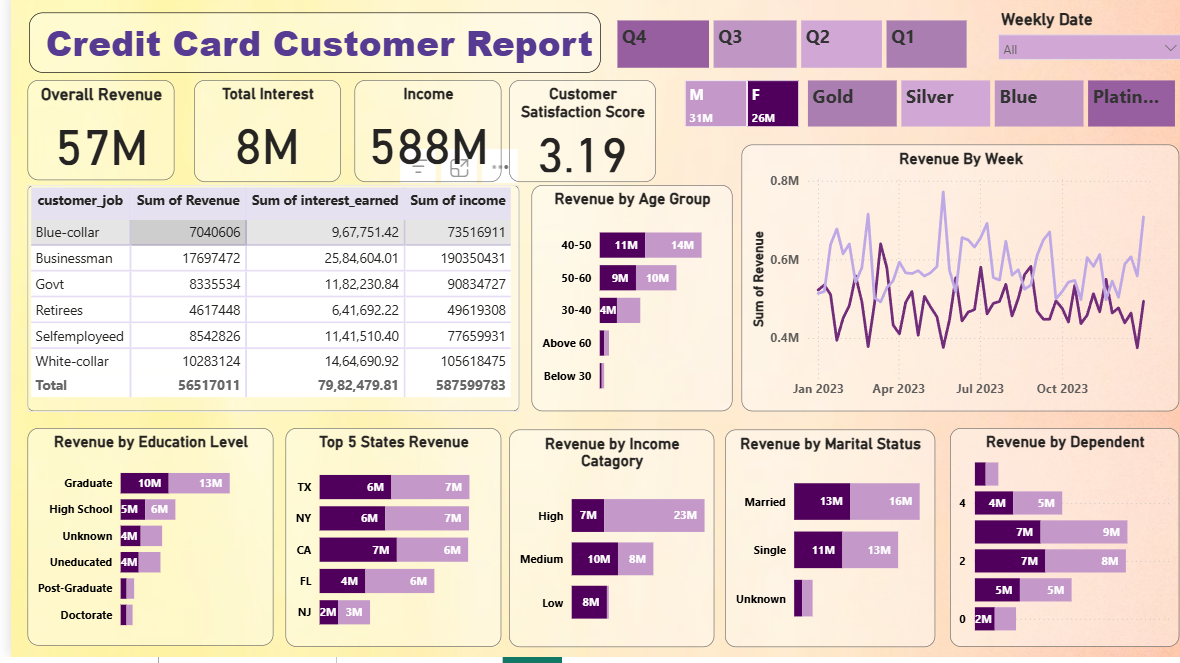

This screenshot's page, from the dashboard's own definition file:
{"tool":"powerbi","page":{"name":"CC Customer","canvas":[1280,720],"ordinal":1},"visuals":[{"type":"textbox","box":[19.5,21.1,619.7,65.1],"z":0},{"type":"barChart","title":"Revenue by Education Level","fields":{"Y":["Sum(public credit_card_details.Revenue)"],"Category":["public customer_details.education_level"],"Series":["public customer_details.gender"]},"box":[17.9,471.7,266.8,235.8],"z":1000},{"type":"tableEx","fields":{"Values":["public customer_details.customer_job","Sum(public credit_card_details.Revenue)","Sum(public credit_card_details.interest_earned)","Sum(public customer_details.income)"]},"box":[17.9,208.2,533.5,245.6],"z":2000},{"type":"card","title":"Overall Revenue","fields":{"Values":["Sum(public credit_card_details.Revenue)"]},"box":[17.9,94.3,159.4,109],"z":3000},{"type":"card","title":"Total Interest","fields":{"Values":["Sum(public credit_card_details.interest_earned)"]},"box":[198.4,94.3,159.4,110.6],"z":4000},{"type":"card","title":"Income","fields":{"Values":["Sum(public customer_details.income)"]},"box":[372.5,94.3,159.4,110.6],"z":5000},{"type":"card","title":"Customer Satisfaction Score","fields":{"Values":["Avg(public customer_details.cust_satisfaction_score)"]},"box":[540,94.3,159.4,110.6],"z":6000},{"type":"slicer","fields":{"Values":["public credit_card_details.week_start_date"]},"box":[1060.4,12.5,219.6,73.2],"z":7000},{"type":"treemap","fields":{"Group":["public credit_card_details.qtr"],"Values":["Avg(public credit_card_details.client_num)"]},"box":[652.2,24.4,388.7,61.8],"z":8000},{"type":"treemap","fields":{"Group":["public credit_card_details.card_category"],"Values":["Avg(public credit_card_details.client_num)"]},"box":[858.8,89.5,408.3,60.2],"z":9000},{"type":"barChart","title":"Top 5 States Revenue","fields":{"Y":["Sum(public credit_card_details.Revenue)"],"Category":["public customer_details.state_cd"],"Series":["public customer_details.gender"]},"box":[297.7,471.7,234.2,237.5],"z":10000},{"type":"barChart","title":"Revenue by Age Group","fields":{"Y":["Sum(public credit_card_details.Revenue)"],"Category":["public customer_details.AgeGroup"],"Series":["public customer_details.gender"]},"box":[564.4,208.2,218,245.6],"z":11000},{"type":"barChart","title":"Revenue by Income Catagory","fields":{"Y":["Sum(public credit_card_details.Revenue)"],"Category":["public customer_details.IncomeCatagory"],"Series":["public customer_details.gender"]},"box":[540,473.3,222.8,235.8],"z":12000},{"type":"barChart","title":"Revenue by Marital Status","fields":{"Y":["Sum(public credit_card_details.Revenue)"],"Category":["public customer_details.marital_status"],"Series":["public customer_details.gender"]},"box":[774.2,473.3,227.7,235.8],"z":13000},{"type":"barChart","title":"Revenue by Dependent","fields":{"Y":["Sum(public credit_card_details.Revenue)"],"Category":["public customer_details.dependent_count"],"Series":["public customer_details.gender"]},"box":[1018.2,471.7,248.9,237.5],"z":14000},{"type":"treemap","fields":{"Group":["public customer_details.gender"],"Values":["Sum(public credit_card_details.Revenue)"]},"box":[725.4,89.5,133.4,60.2],"z":15000},{"type":"lineChart","title":"Revenue By Week","fields":{"Y":["Sum(public credit_card_details.Revenue)"],"Series":["public customer_details.gender"],"Category":["public credit_card_details.week_start_date"]},"box":[792.1,164.3,475,289.5],"z":16000}]}

Visuals, with their boxes in screenshot pixels (x1, y1, x2, y2), scaled from the page's 1280x720 canvas onto the 1180x663 screenshot:
textbox: [18, 19, 589, 79]
"Revenue by Education Level" barChart: [17, 434, 262, 651]
tableEx - public customer_details.customer_job x Sum(public credit_card_details.Revenue): [17, 192, 508, 418]
"Overall Revenue" card: [17, 87, 163, 187]
"Total Interest" card: [183, 87, 330, 189]
"Income" card: [343, 87, 490, 189]
"Customer Satisfaction Score" card: [498, 87, 645, 189]
slicer - public credit_card_details.week_start_date: [978, 12, 1179, 79]
treemap - public credit_card_details.qtr x Avg(public credit_card_details.client_num): [601, 22, 960, 79]
treemap - public credit_card_details.card_category x Avg(public credit_card_details.client_num): [792, 82, 1168, 138]
"Top 5 States Revenue" barChart: [274, 434, 490, 653]
"Revenue by Age Group" barChart: [520, 192, 721, 418]
"Revenue by Income Catagory" barChart: [498, 436, 703, 653]
"Revenue by Marital Status" barChart: [714, 436, 924, 653]
"Revenue by Dependent" barChart: [939, 434, 1168, 653]
treemap - public customer_details.gender x Sum(public credit_card_details.Revenue): [669, 82, 792, 138]
"Revenue By Week" lineChart: [730, 151, 1168, 418]
